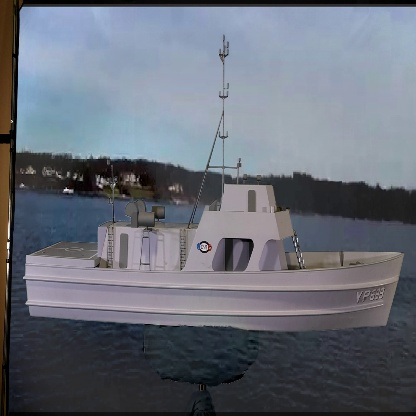YP689: (23, 36, 405, 329)
